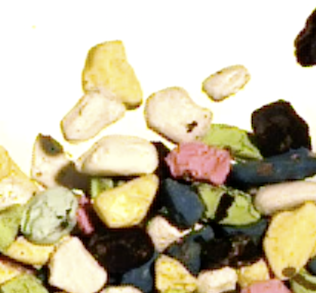black: (90, 226, 153, 286), (251, 100, 311, 155), (196, 229, 262, 267)
blue: (230, 152, 316, 182), (161, 178, 206, 230), (163, 227, 210, 273), (119, 261, 153, 293)
green: (190, 177, 264, 229), (192, 176, 261, 226), (18, 187, 76, 242), (201, 121, 264, 163)
white: (143, 86, 209, 144), (76, 132, 158, 175), (58, 93, 126, 144), (47, 235, 104, 293), (31, 133, 76, 188), (200, 64, 252, 103), (250, 178, 316, 208)
yellow: (80, 42, 143, 109), (263, 202, 316, 281), (92, 174, 158, 227), (4, 232, 54, 271), (152, 254, 195, 293), (238, 258, 271, 283)
